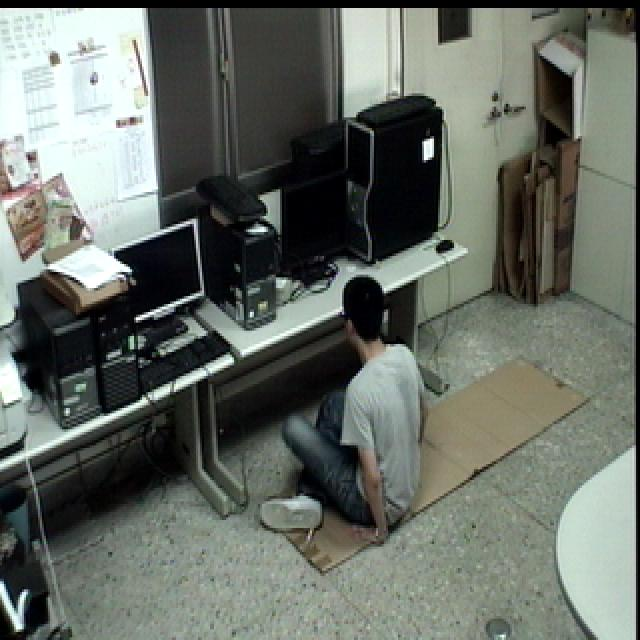sit: (258, 264, 439, 556)
